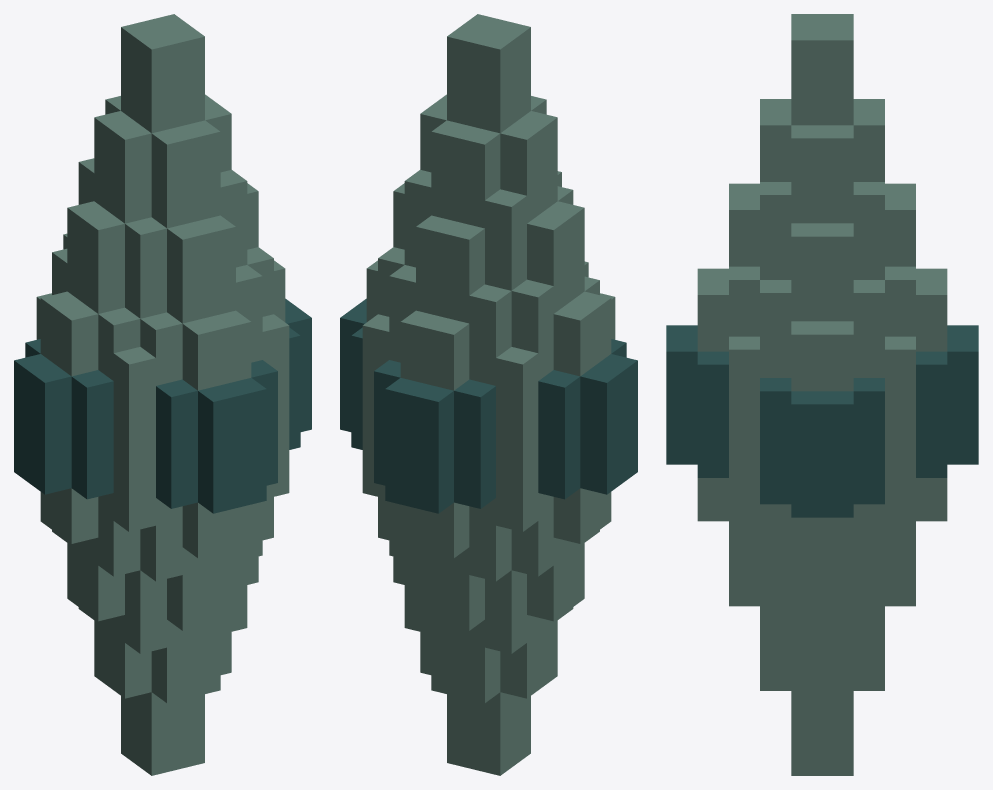
File: Crystal_Big_2.glb
The picture shows the model from 3 angles, left to right: view 1: azimuth 30°, elevation 25°; view 2: azimuth 150°, elevation 25°; view 3: azimuth 270°, elevation 25°; orthographic projection.
Visible parts, largest first — view 1: Crystal_Big_2; view 2: Crystal_Big_2; view 3: Crystal_Big_2.
Part boxes in pixels (<box>): Crystal_Big_2: <box>14,14,311,775</box>; Crystal_Big_2: <box>340,14,637,775</box>; Crystal_Big_2: <box>666,14,978,775</box>.
Size of the model in its own units: 0.25 by 0.65 by 0.25.
